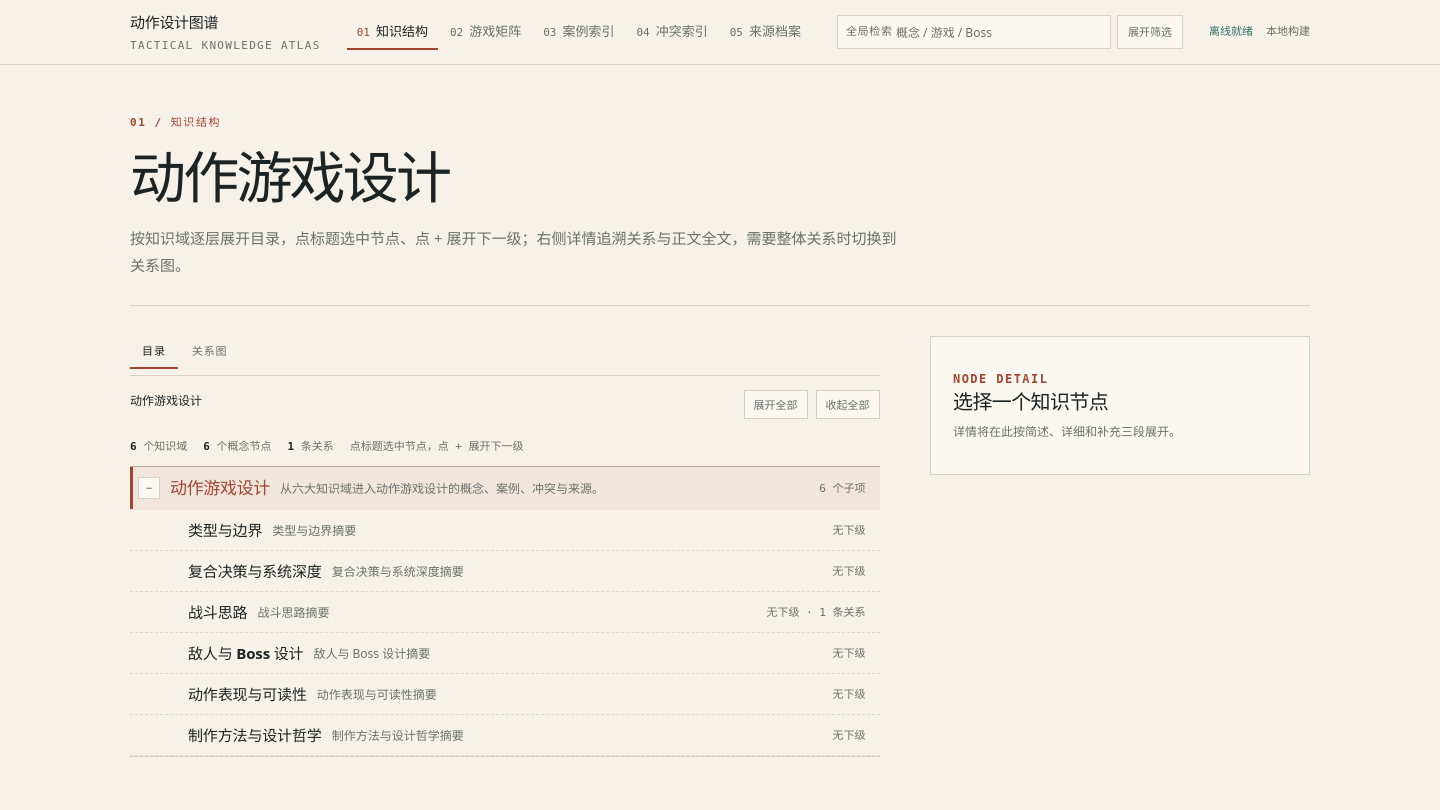
Test case: research search › shows active filters, clears a no-result state, and offers alias-prefix suggestions
Step 1. Click the button "展开筛选" → [1150, 32], box [1117, 15, 1183, 49]
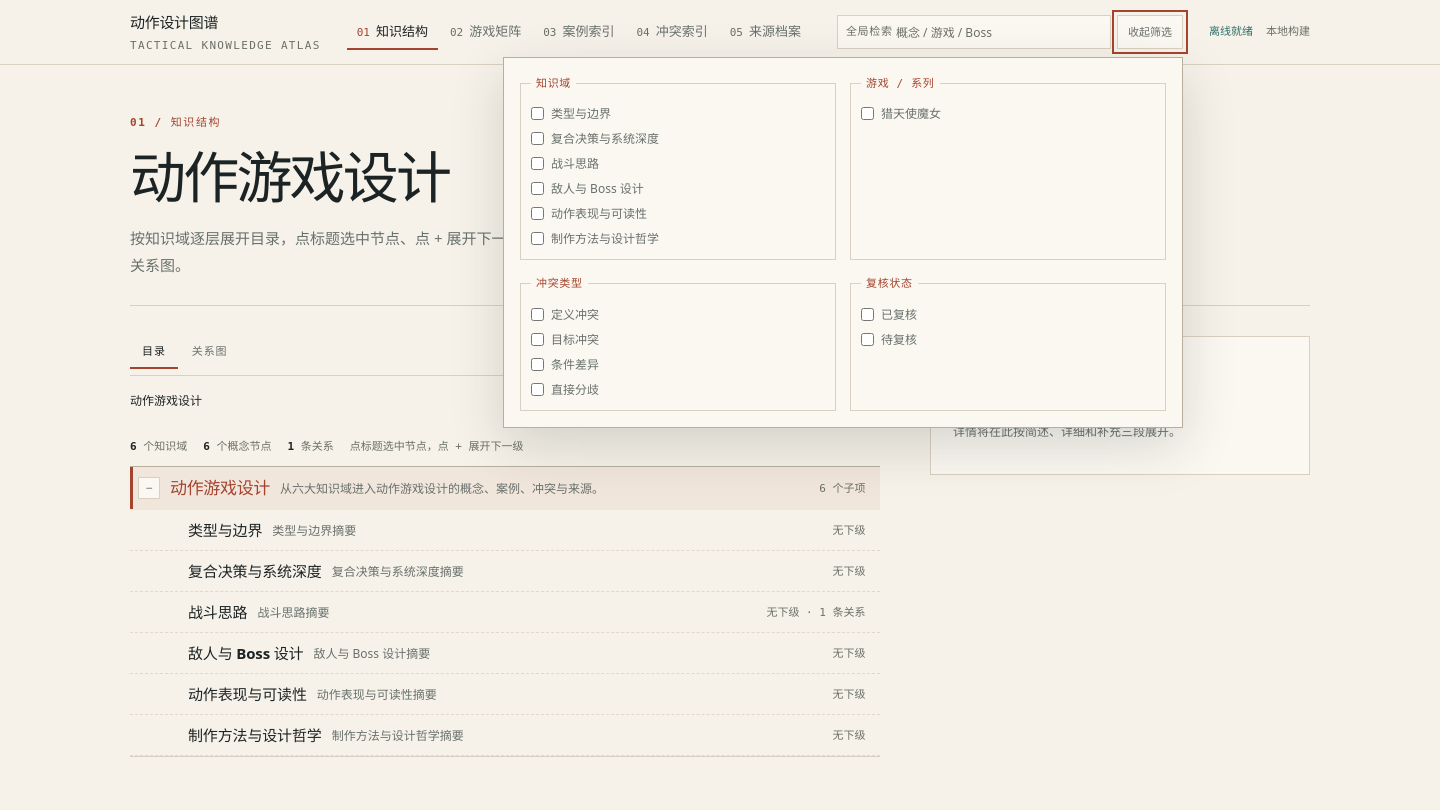
Step 2. Click the checkbox labelled "目标冲突" → [538, 339], box [531, 332, 544, 346]
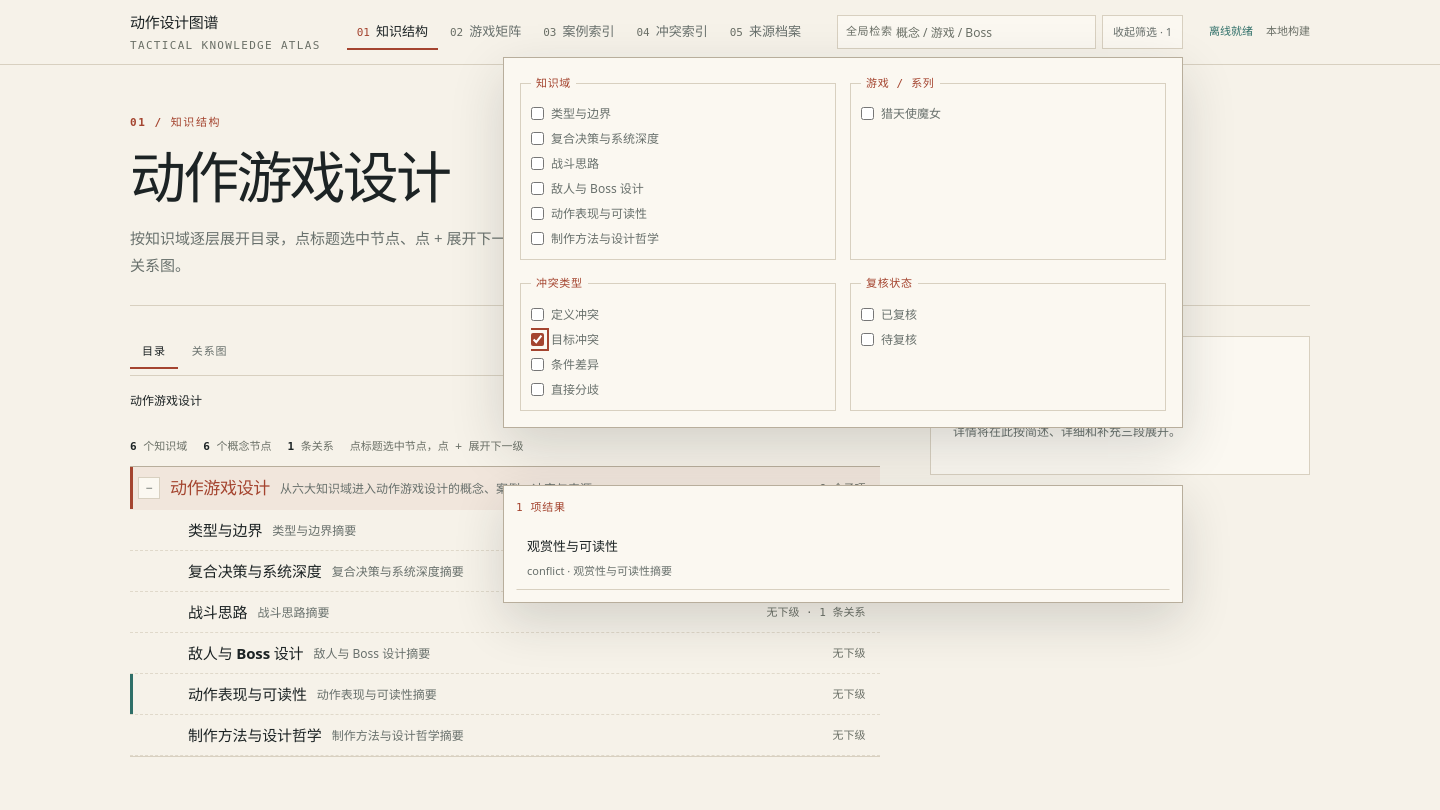
Step 3. Type "Bayo" into the search field → [967, 32], box [837, 15, 1096, 49]
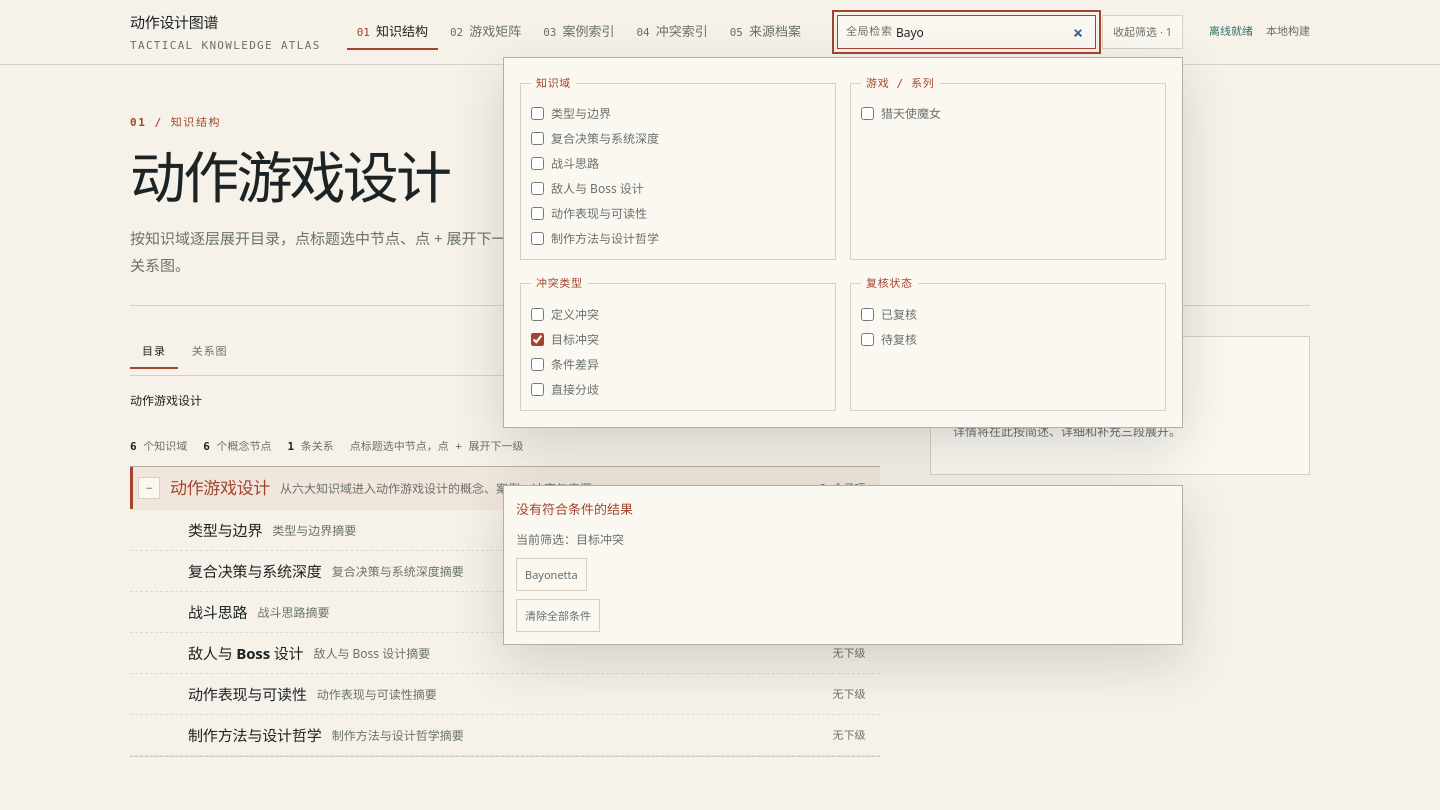
Expected: the text "目标冲突" is shown, [551, 328, 599, 350]
Expected: the text "没有符合条件的结果" is shown, [516, 500, 633, 518]
Expected: the button with aria-label "建议：Bayonetta" is shown, [516, 558, 587, 591]
Step 4. Click the button "清除全部条件" → [558, 615], box [516, 599, 600, 632]
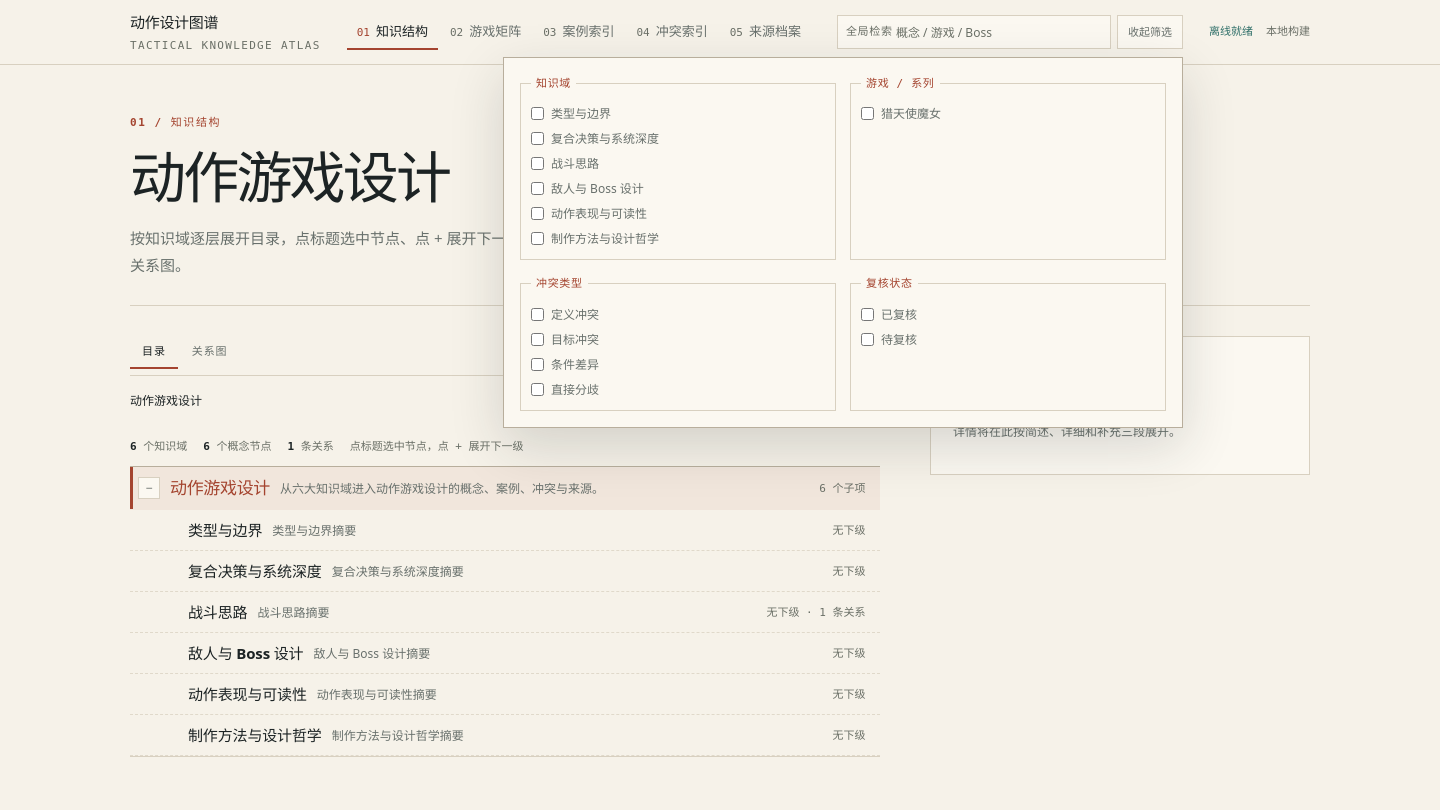
Expected: the search field is empty, [837, 15, 1111, 49]
